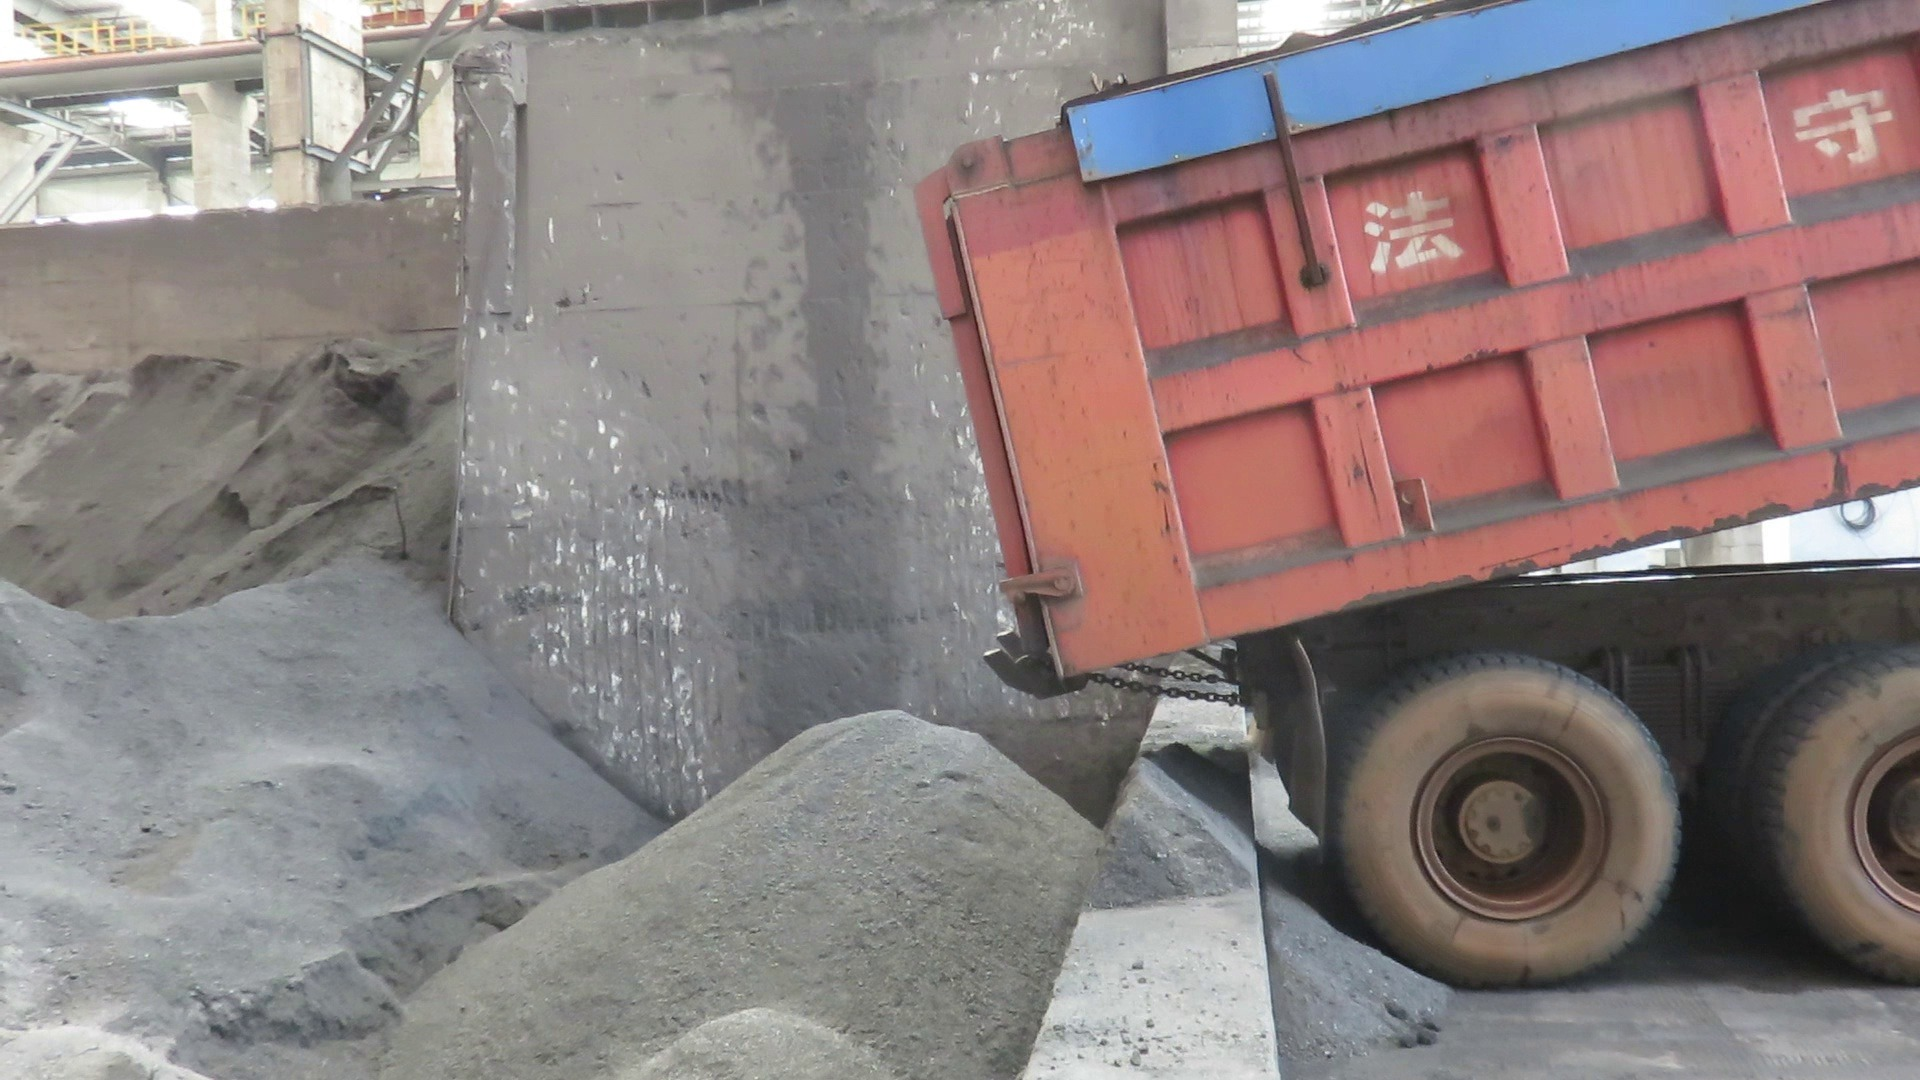truck: (893, 0, 1920, 1010)
